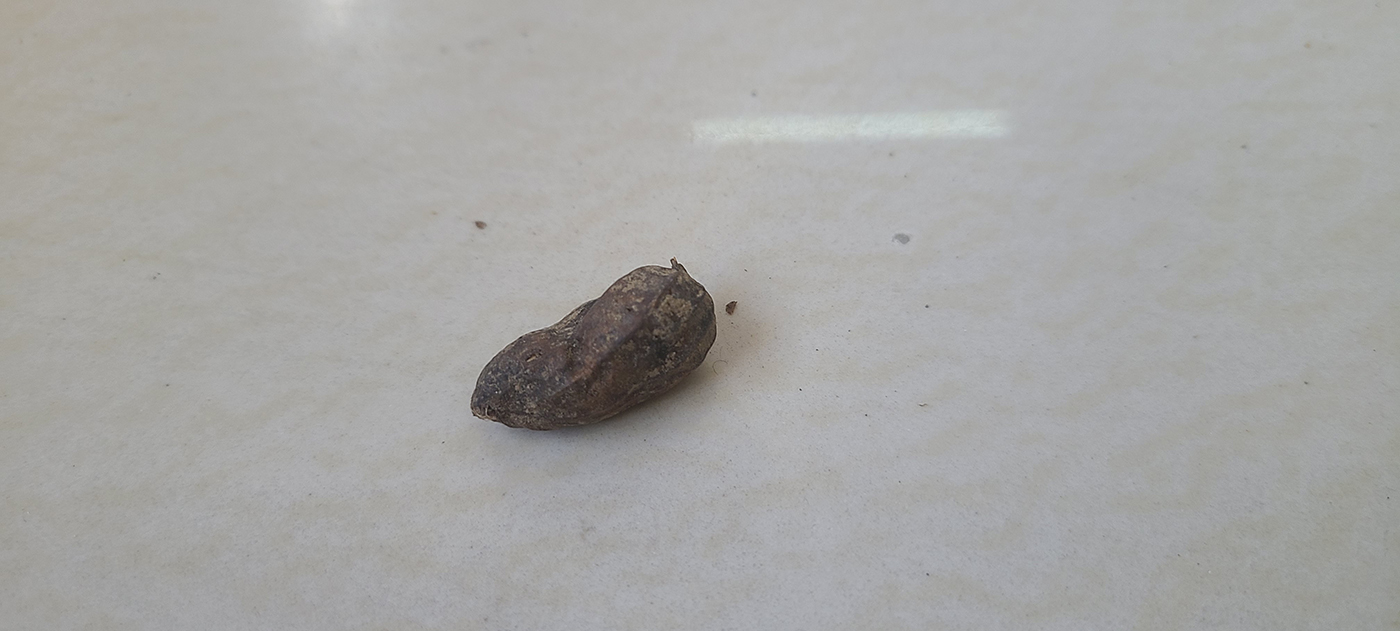l: (469, 262, 718, 429)
